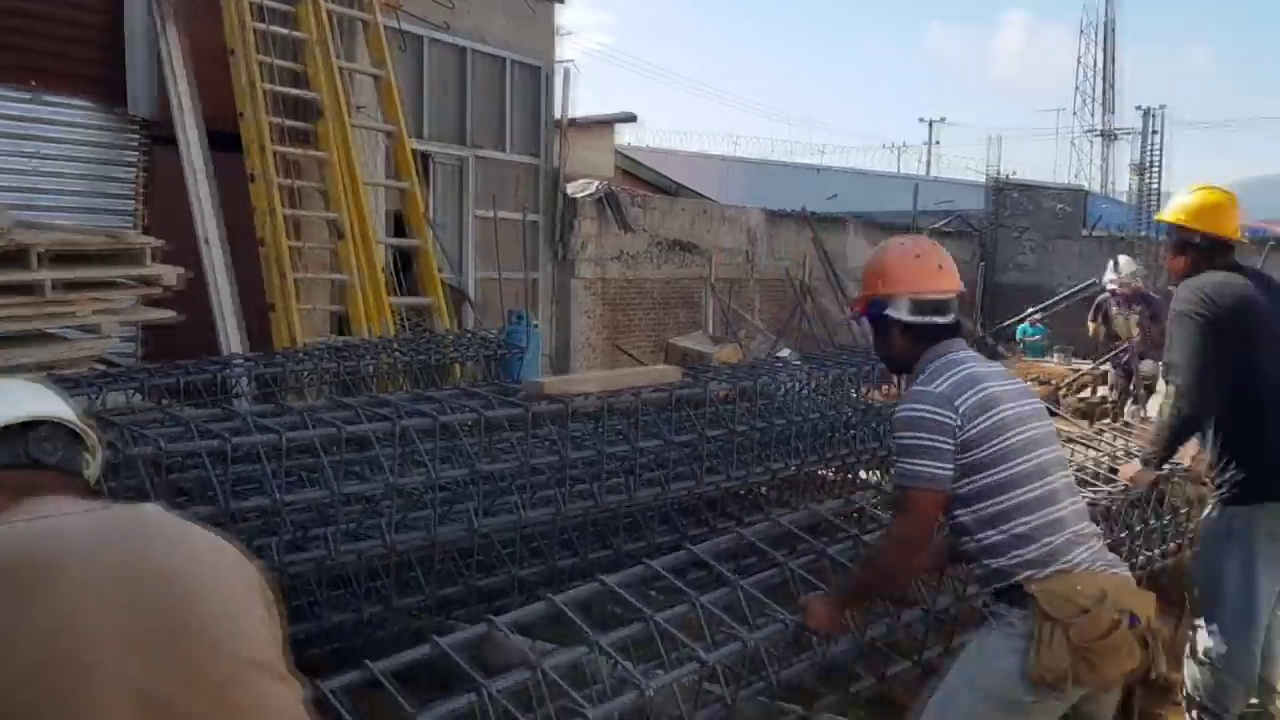helmet: (853, 232, 966, 316), (0, 386, 92, 465), (1150, 186, 1250, 246), (1104, 256, 1140, 285), (1027, 309, 1043, 320)
helmet-on: (855, 235, 977, 384), (0, 380, 109, 514), (1153, 188, 1256, 286), (1103, 256, 1146, 301), (1013, 310, 1054, 355), (1023, 309, 1044, 328)
person: (792, 240, 1149, 712), (0, 380, 325, 711), (1134, 178, 1267, 678), (1099, 256, 1172, 416)
